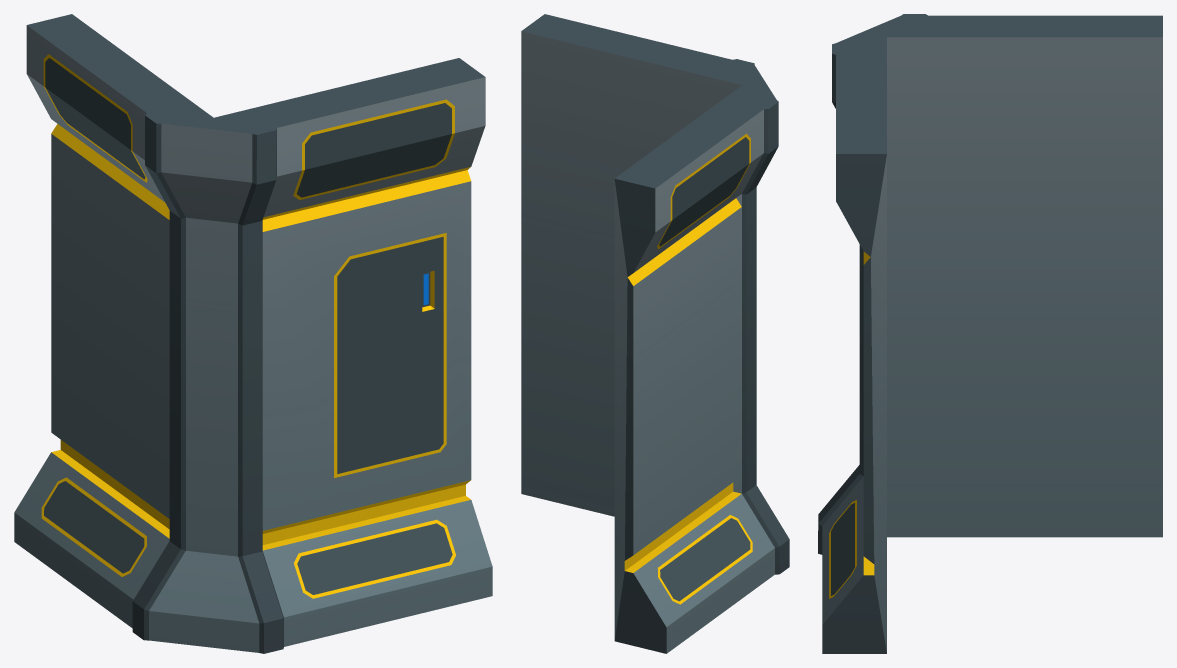
The model's file is Wall_type_C_001.glb.
The picture shows the model from 3 angles, left to right: view 1: azimuth 30°, elevation 25°; view 2: azimuth 150°, elevation 25°; view 3: azimuth 270°, elevation 25°; orthographic projection. The views are drawn at different scales.
Parts seen in each view (by area): view 1: Wall_type_C_001; view 2: Wall_type_C_001; view 3: Wall_type_C_001.
Boxes of the visible parts, left/top/right/bottom form: Wall_type_C_001: left=14, top=14, right=492, bottom=653; Wall_type_C_001: left=521, top=14, right=789, bottom=653; Wall_type_C_001: left=818, top=14, right=1162, bottom=653.
Bounding box in the file's own units: 2.5 × 4 × 2.5.
2 materials, 2 textured.
